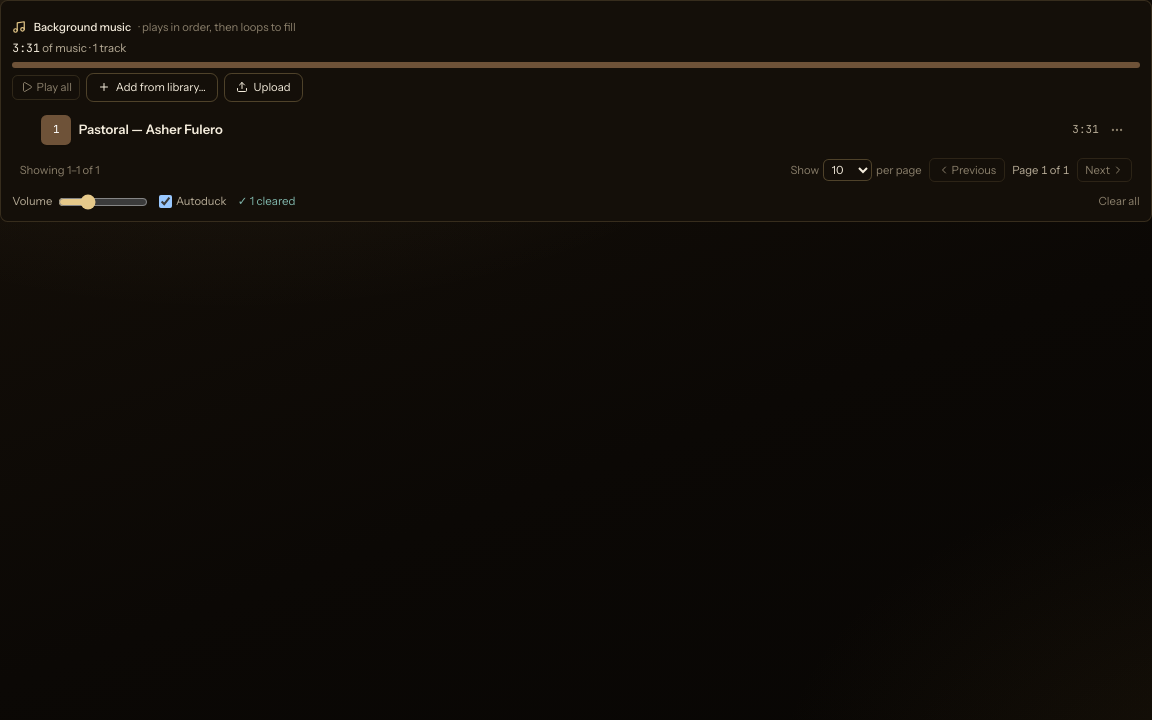
Test: MusicPicker — choosing several tracks from the library › shows how long each track is, and leaves out ones already in the list
The image size is (1152, 720).
What coordinates should you click on to do the following:
click the button "Add from library…"
I would click on:
 (152, 87)
Its box is [86,73,218,102].
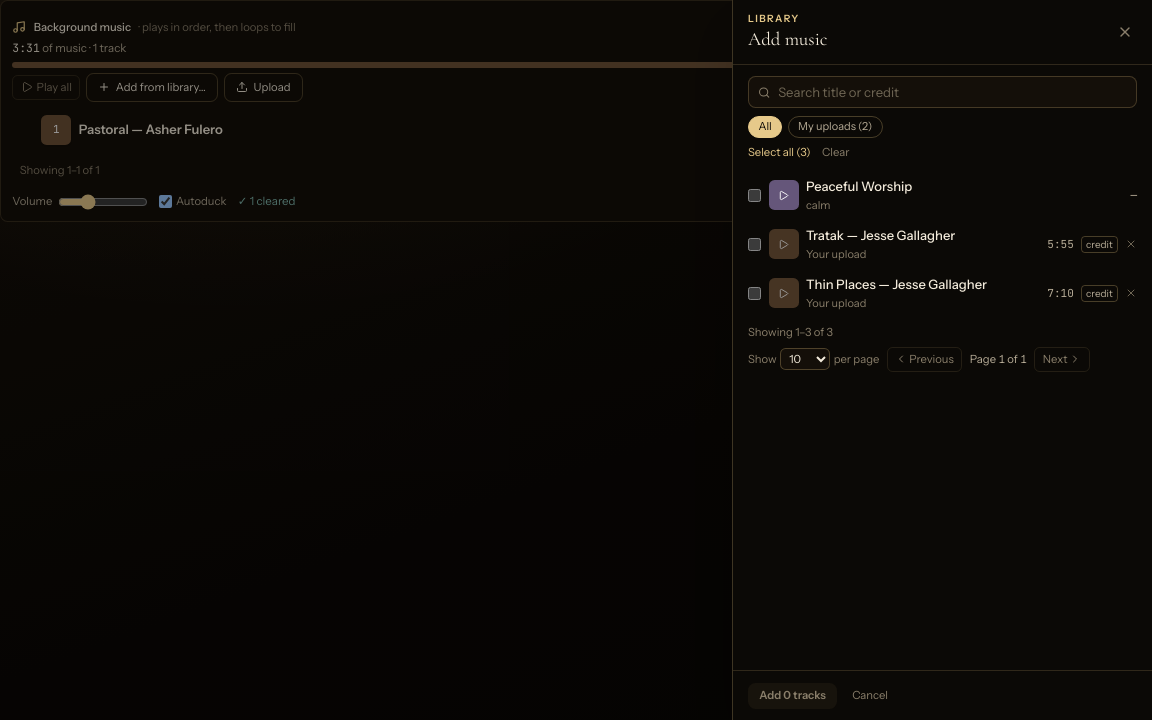
Expected: the checkbox named "Tratak — Jesse Gallagher · 5:55" is shown, [748,238,761,251]
